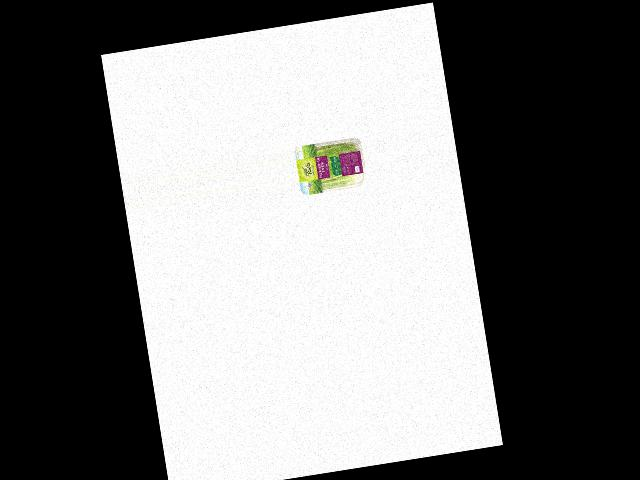lettuce: (298, 136, 368, 196)
